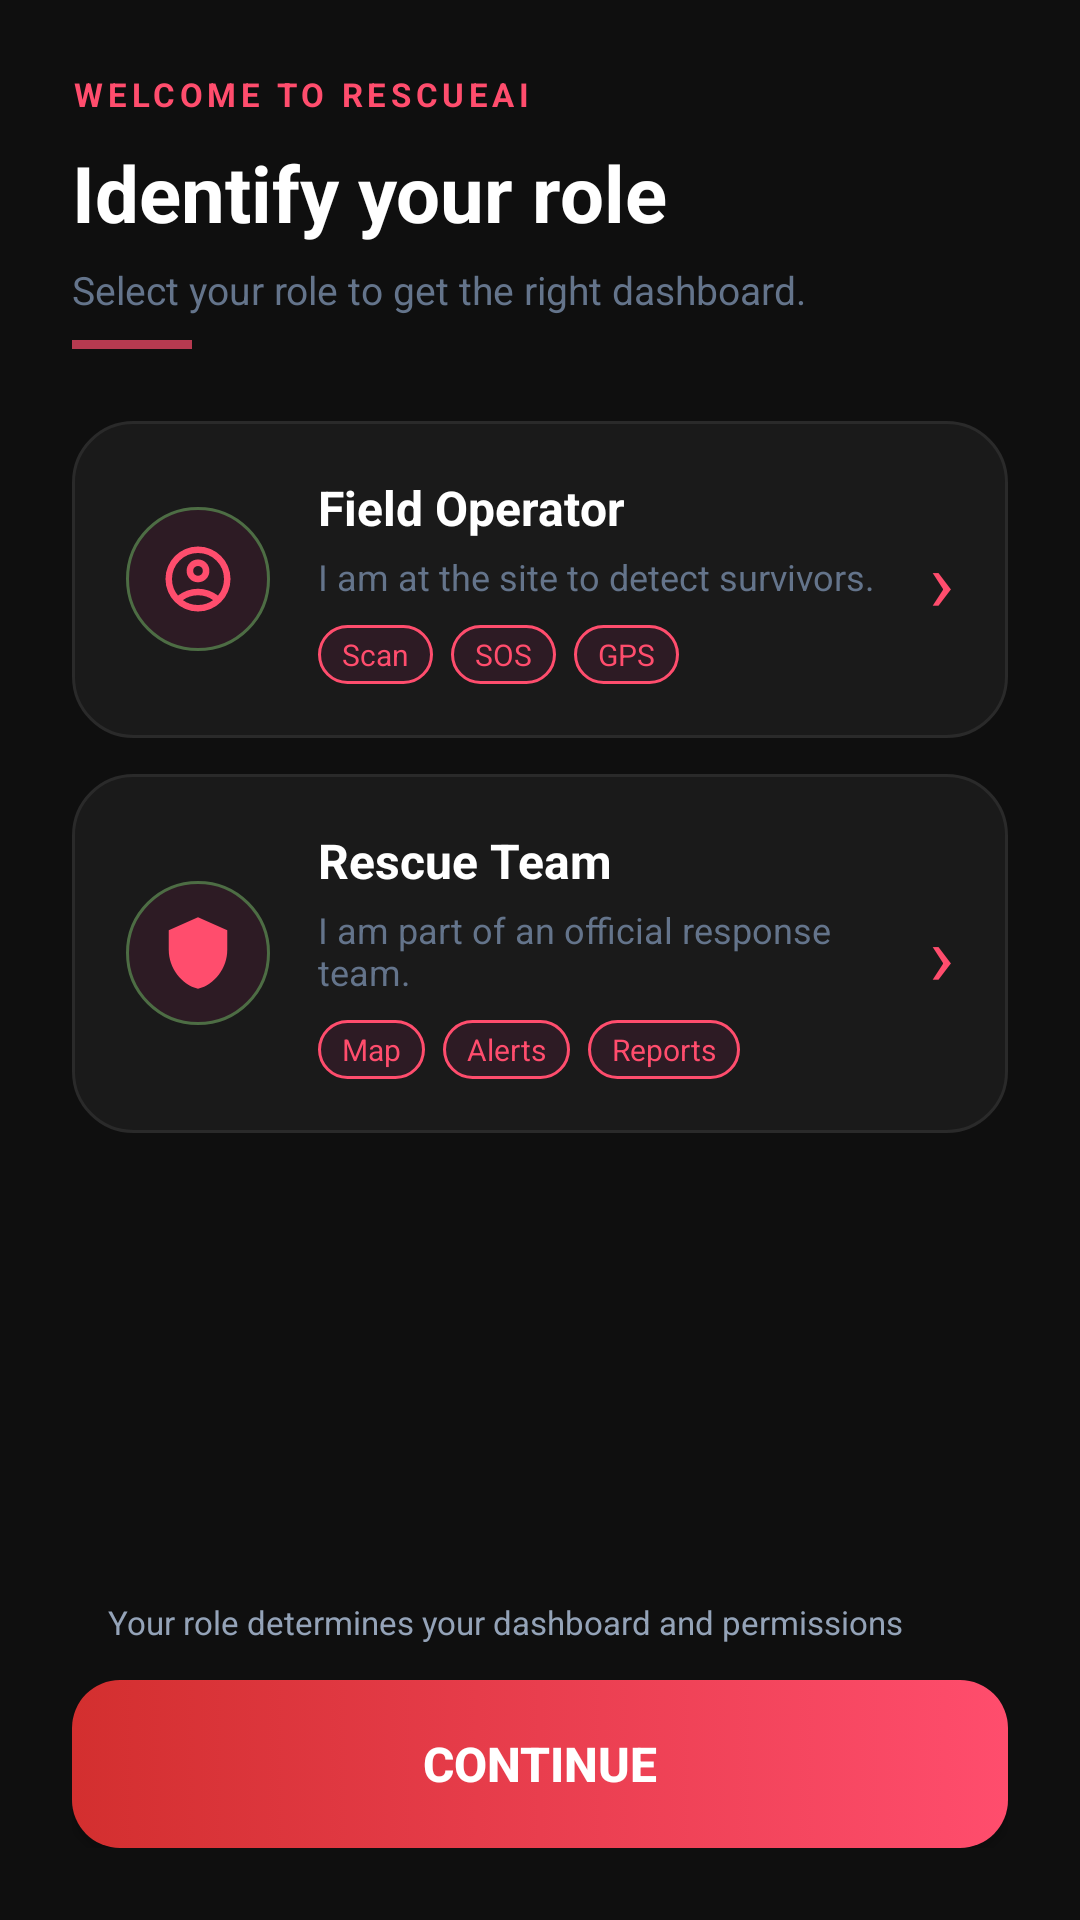

Named icons in this screenshot (1080x1920) and their centers, [x,y]:
shield: [198,953]
